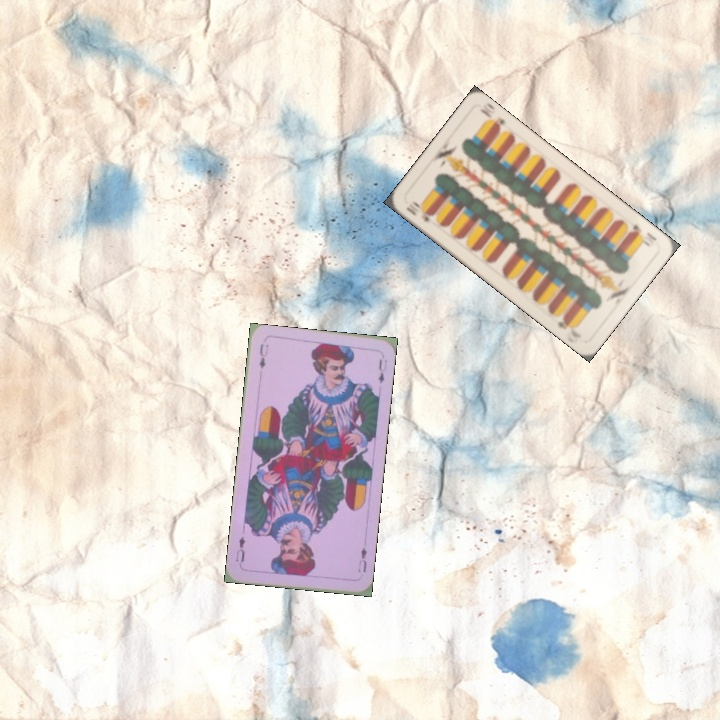E10: (626, 220, 659, 250), (402, 197, 436, 225)
EU: (255, 340, 271, 371), (354, 543, 369, 575)
